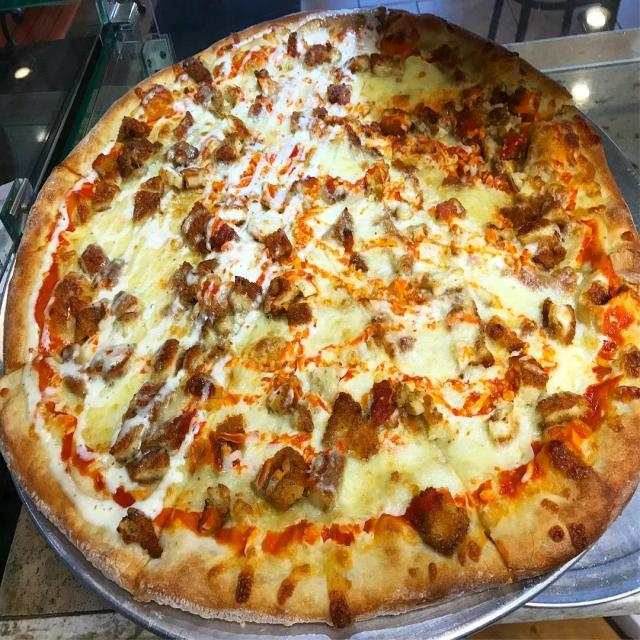pizza: (0, 8, 640, 631)
